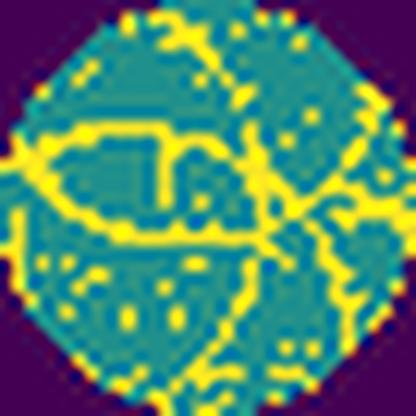Scratch: (0, 80, 416, 356), (165, 256, 269, 396), (147, 7, 257, 117)
